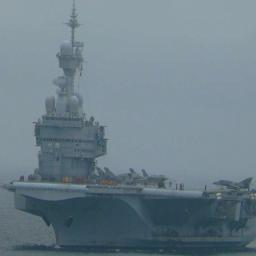Portanaves: (5, 1, 256, 253)
